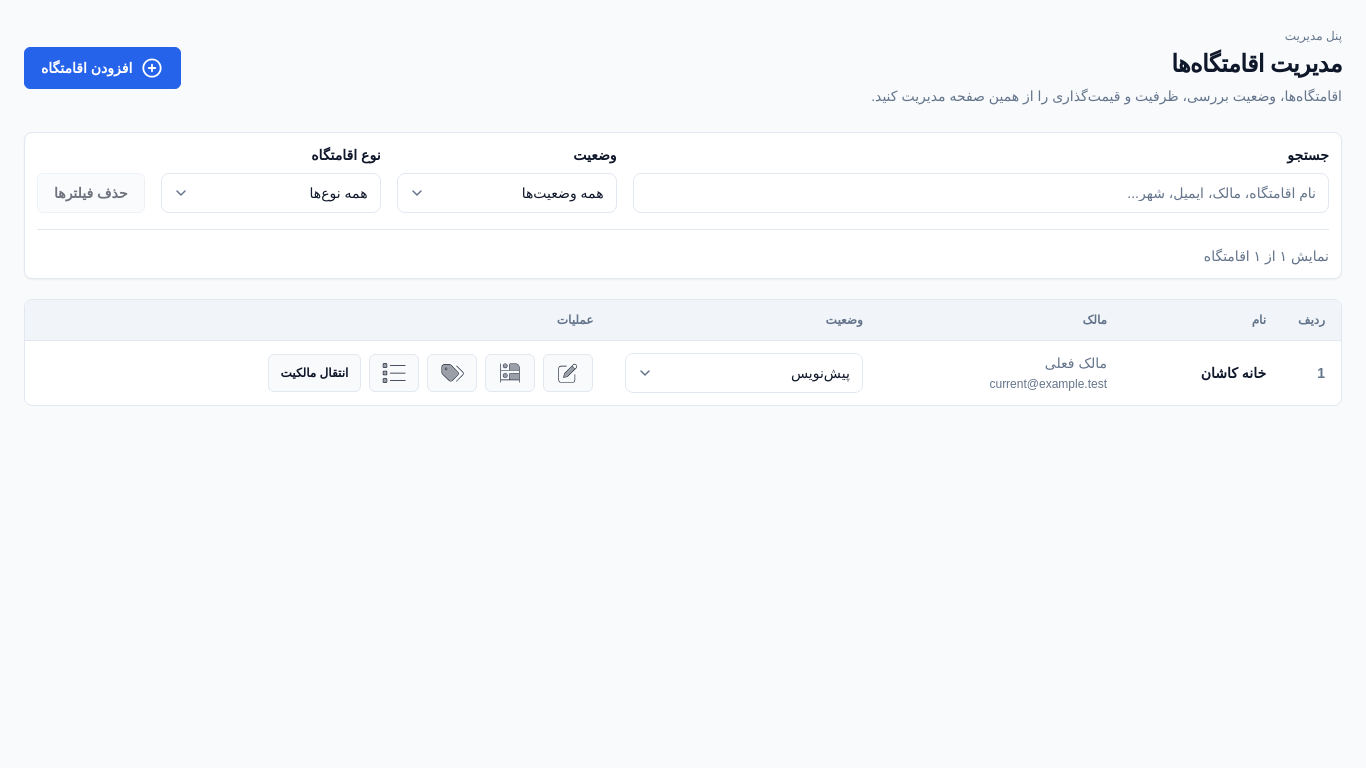
Scenario: Admin property transfer ownership › uses bounded search, confirms the demotion outcome, prevents duplicates, and refreshes
This screenshot has width=1366, height=768.
Click the button "انتقال مالکیت" at {"x": 314, "y": 373}, box [268,354,361,392]
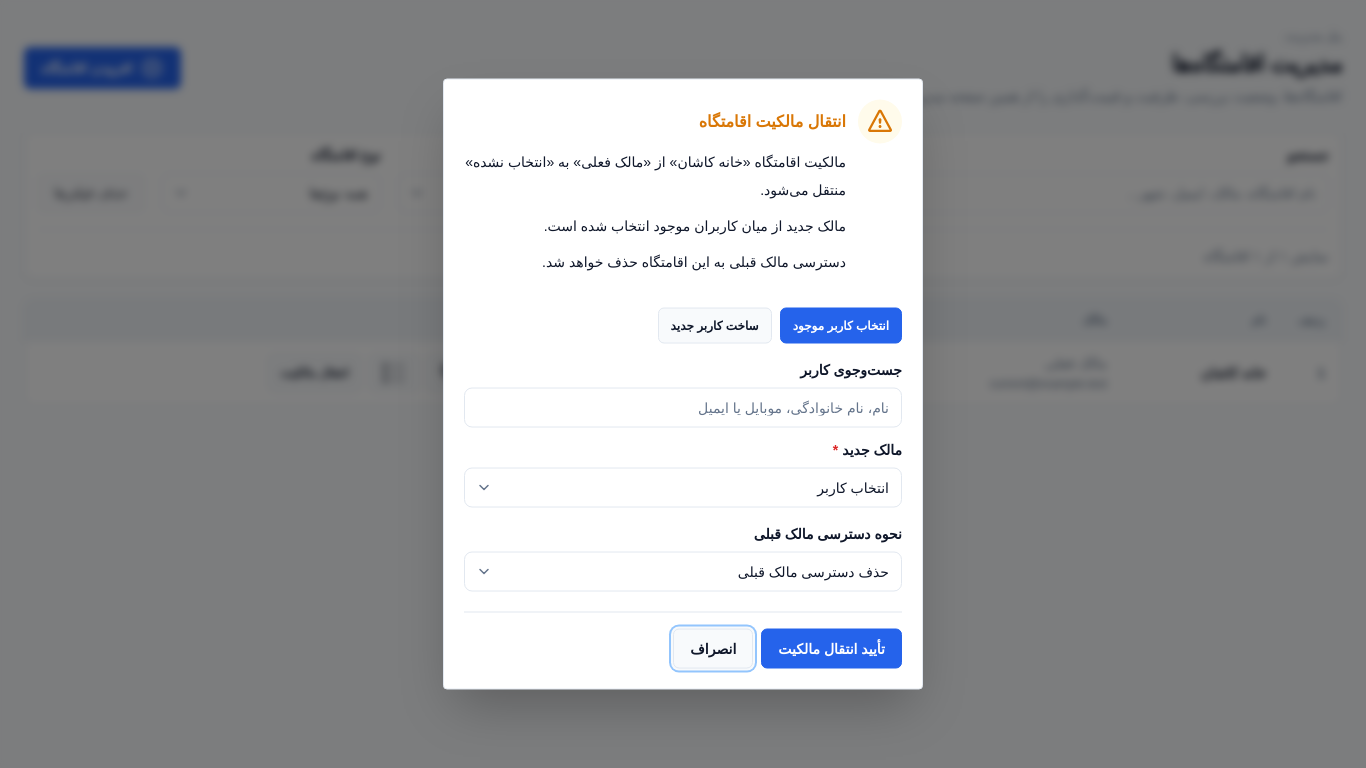
Check: the button "انتخاب کاربر موجود" is shown, box [780,308,902,344]
Check: the button "ساخت کاربر جدید" is shown, box [658,308,772,344]
Select "مدیر سامانه — 09121234567" in the dropdown labelled "مالک جدید*" at {"x": 683, "y": 488}, box [464,468,902,508]
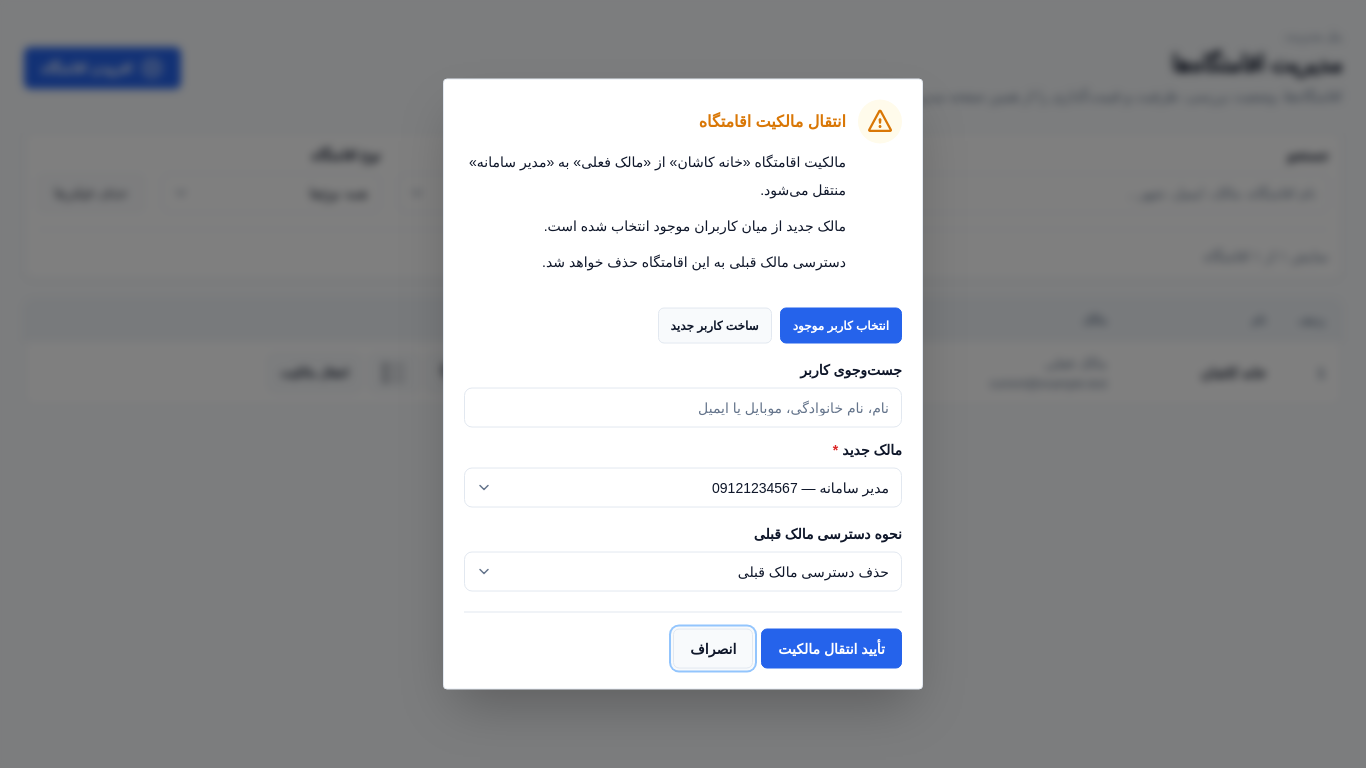
Select "تغییر نقش مالک قبلی" in the dropdown labelled "نحوه دسترسی مالک قبلی" at {"x": 683, "y": 572}, box [464,552,902,592]
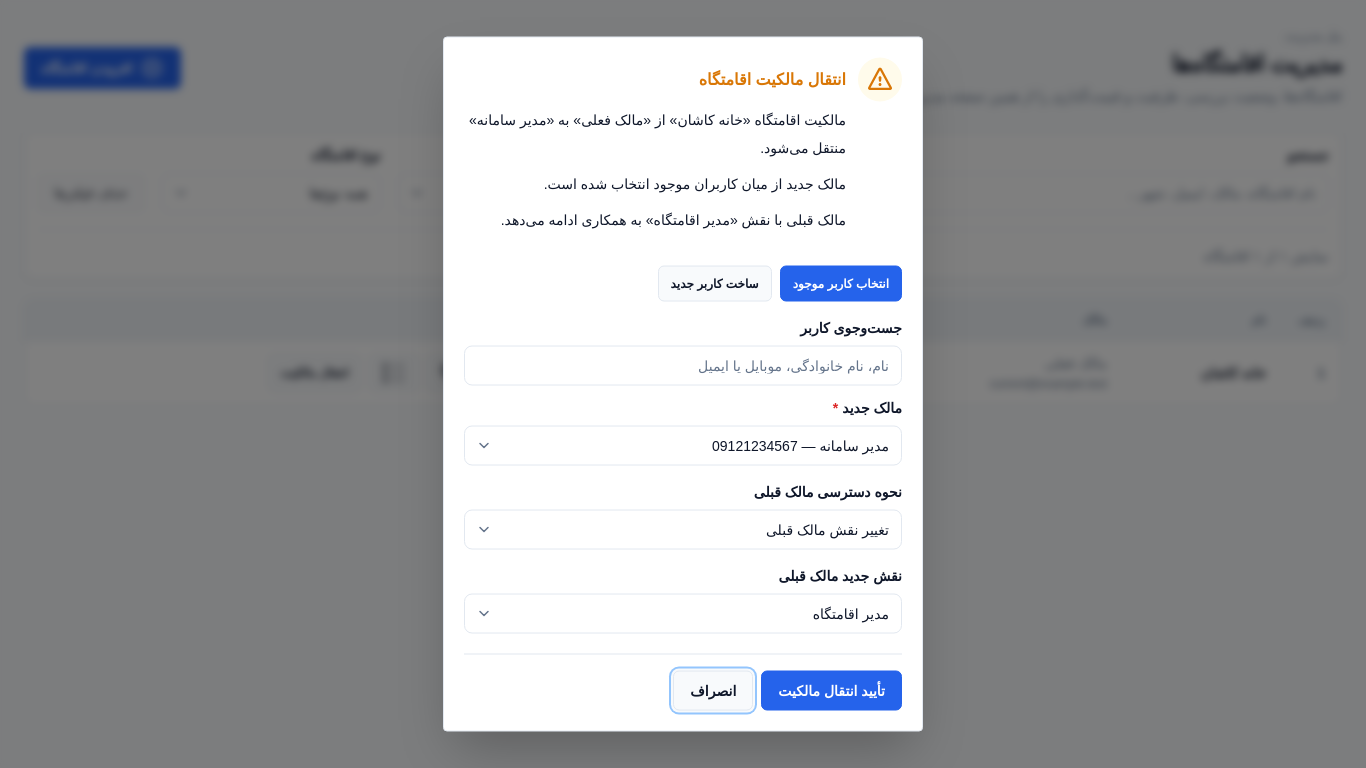
Select "پذیرش" in the dropdown labelled "نقش جدید مالک قبلی" at {"x": 683, "y": 614}, box [464,594,902,634]
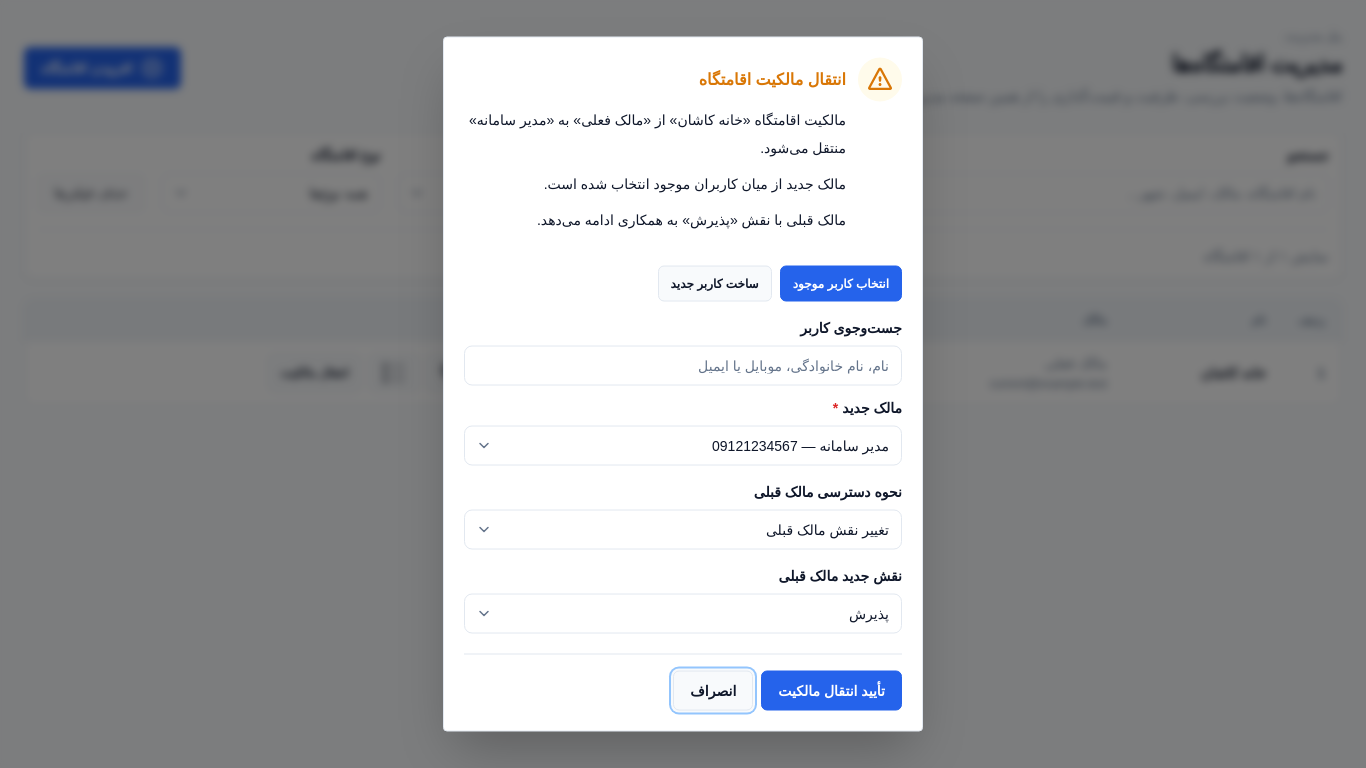
Check: the text "مالک فعلی" is shown, box [581,112,643,128]
Check: the text "مالک قبلی با نقش «پذیرش» به همکاری ادامه می‌دهد." is shown, box [537,212,846,228]
Click the button "تأیید انتقال مالکیت" at {"x": 832, "y": 690}, box [761,670,902,710]
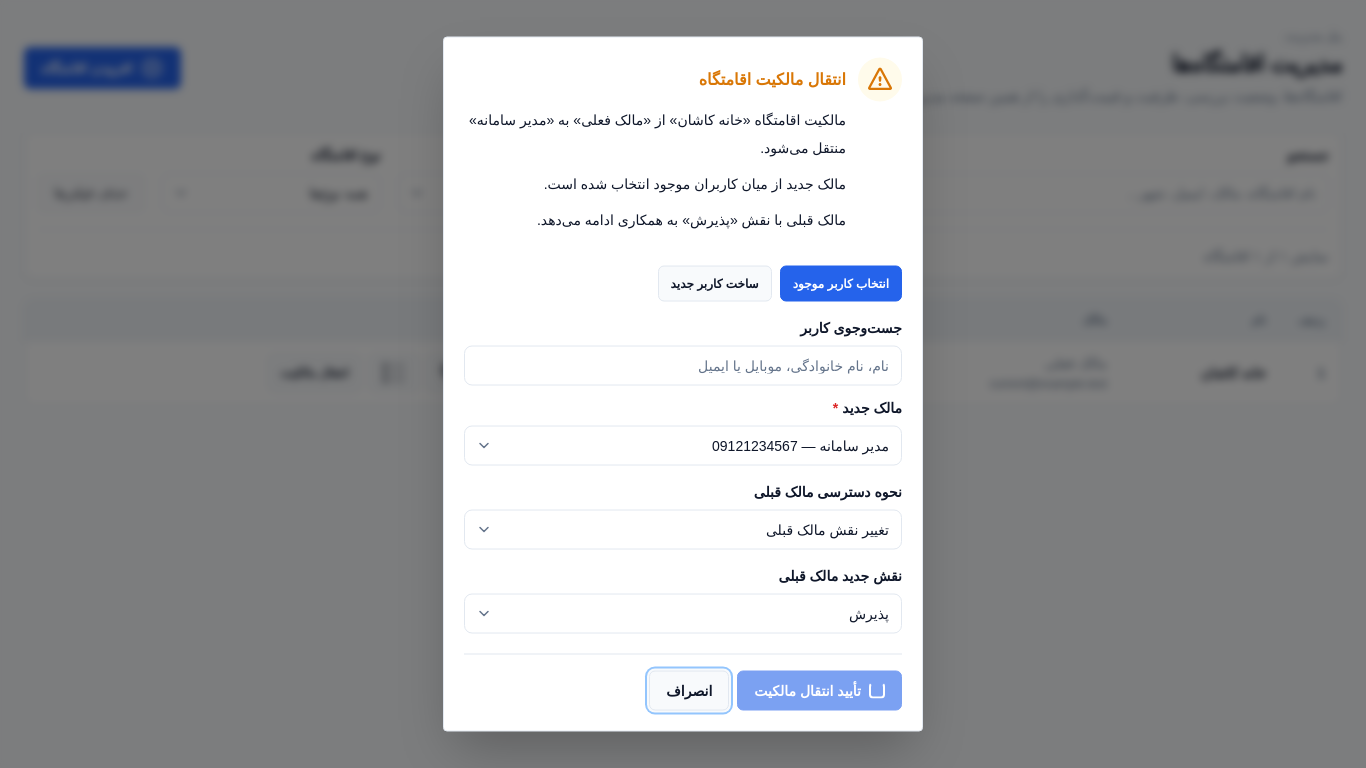
Click the button "تأیید انتقال مالکیت" at {"x": 820, "y": 690}, box [737,670,902,710]
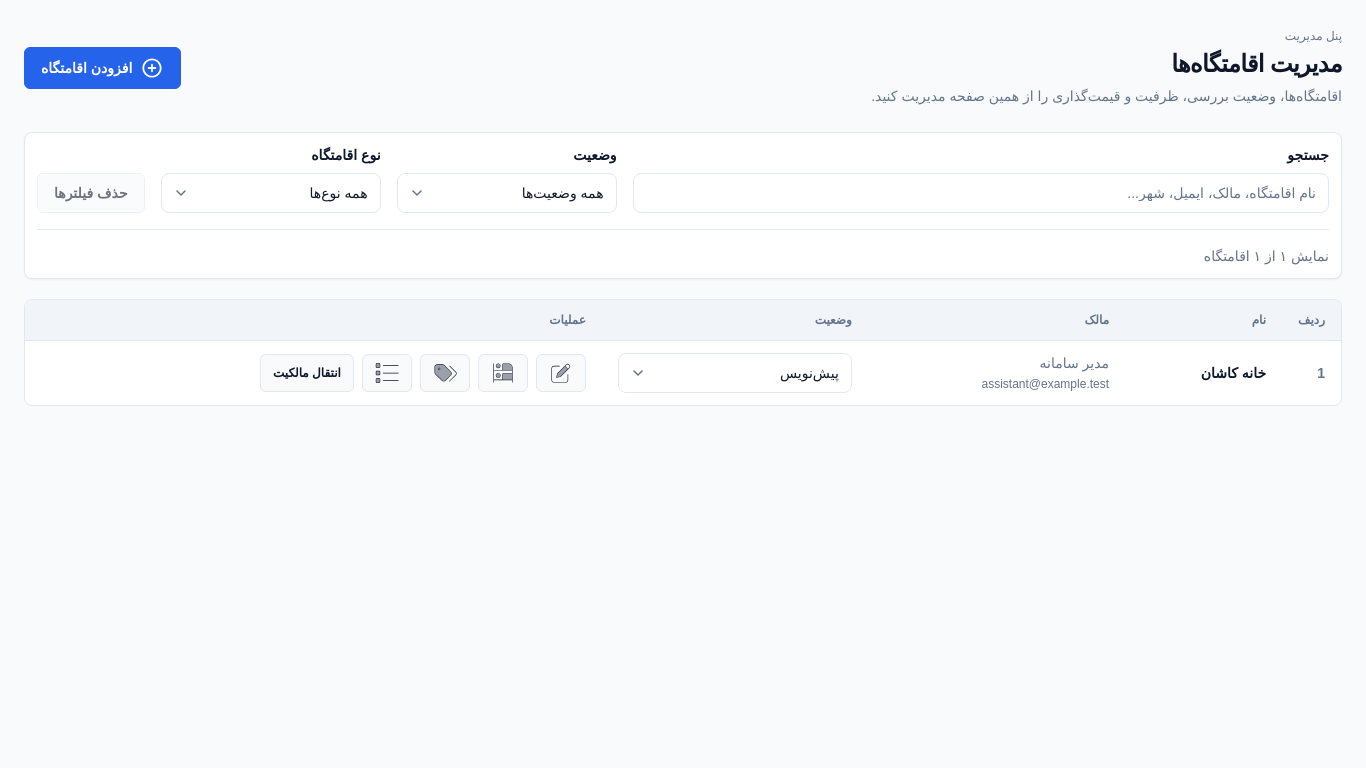
Check: the text "مدیر سامانه" is shown, box [1040,355,1109,371]
